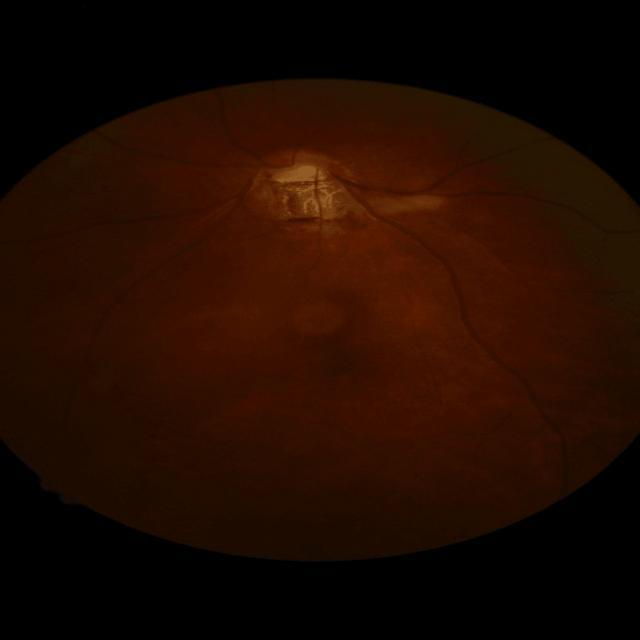cup: (266, 165, 326, 181)
disk: (253, 147, 346, 183)
